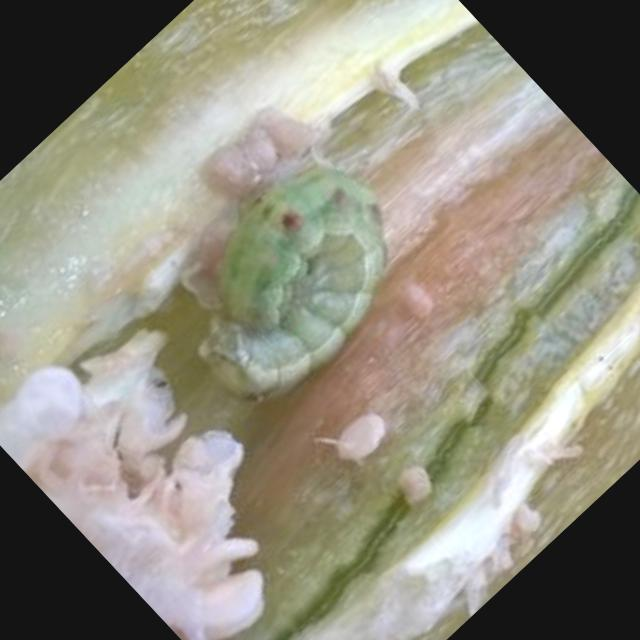Cotton bollworm: (110, 104, 466, 456)
